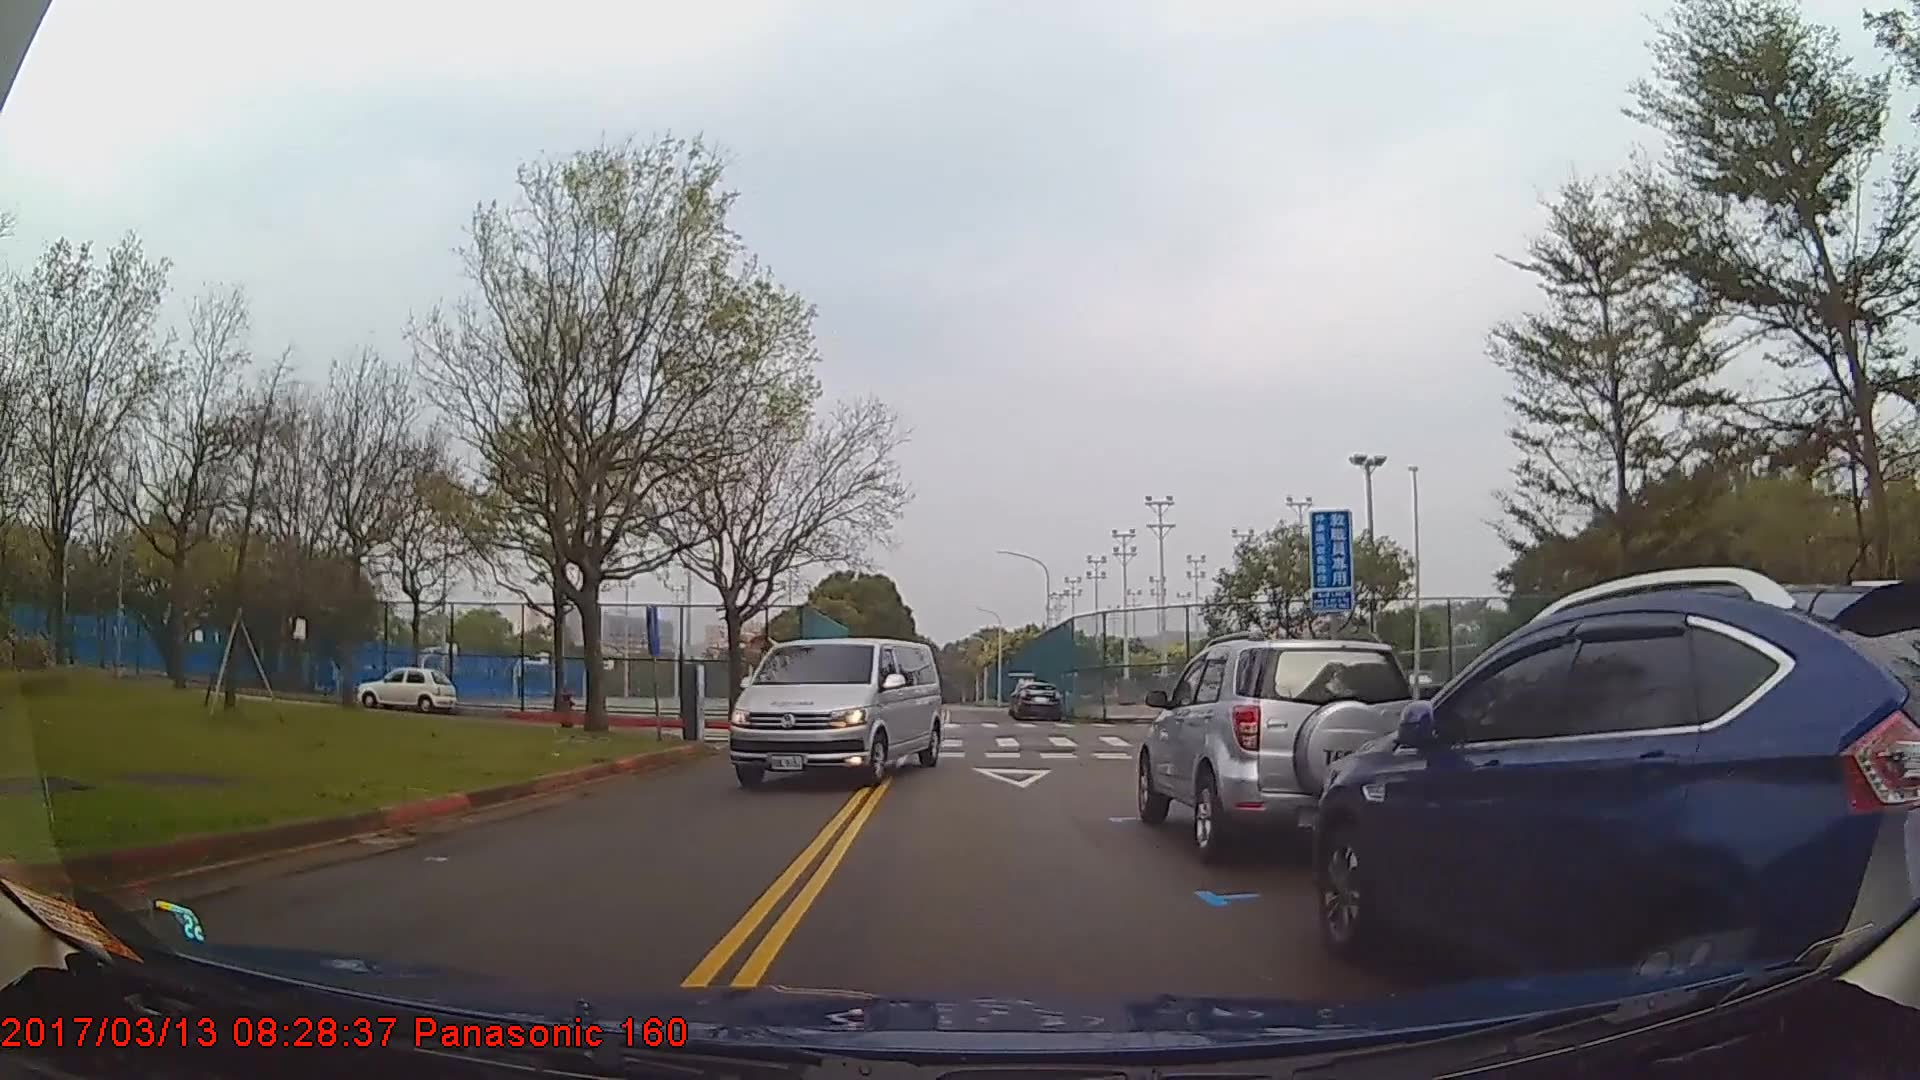vehicle: (1313, 575, 1920, 996), (1135, 636, 1427, 869), (724, 636, 942, 793), (357, 665, 458, 711), (1013, 679, 1062, 723)
